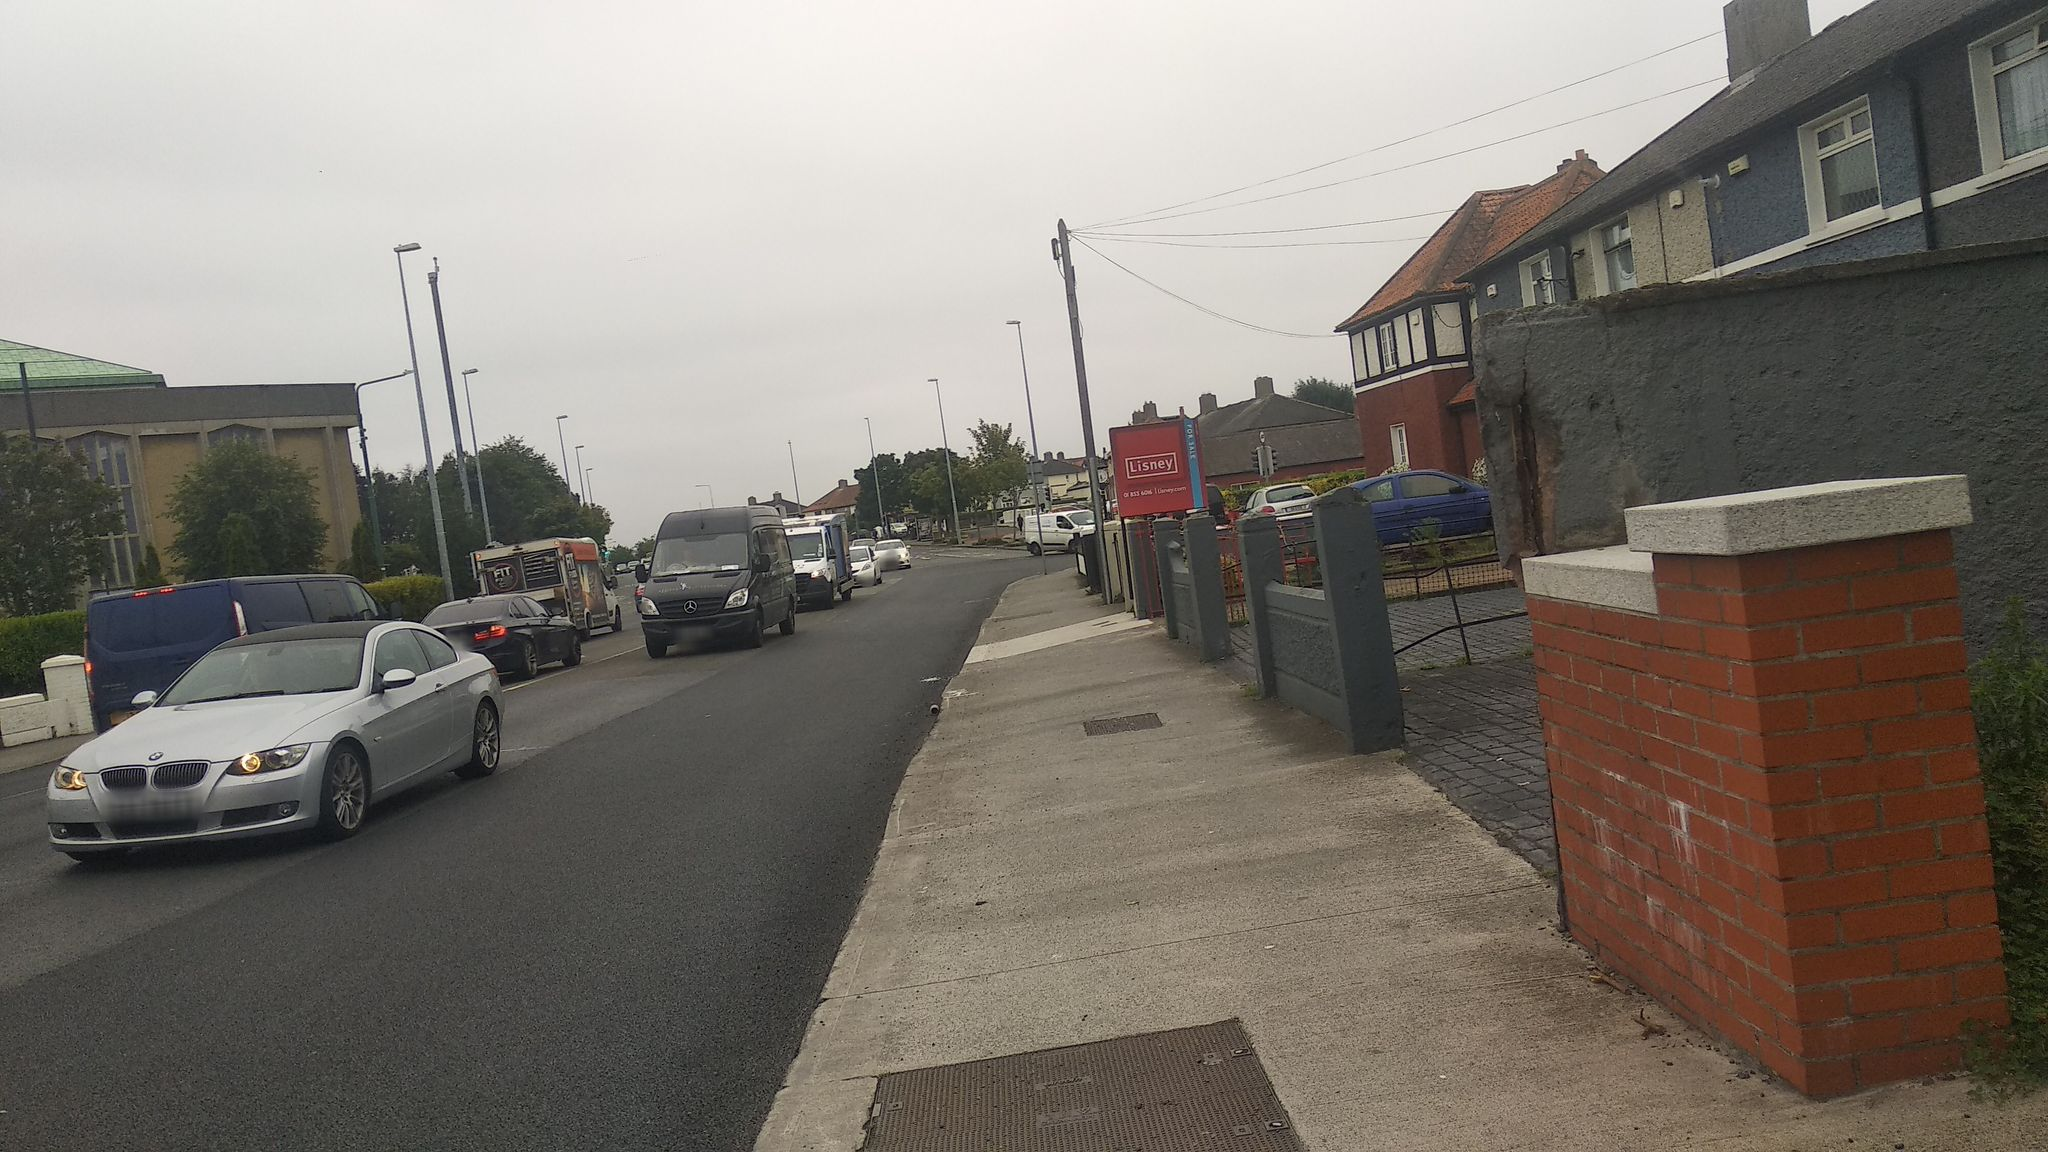property sign: (1083, 395, 1236, 525)
